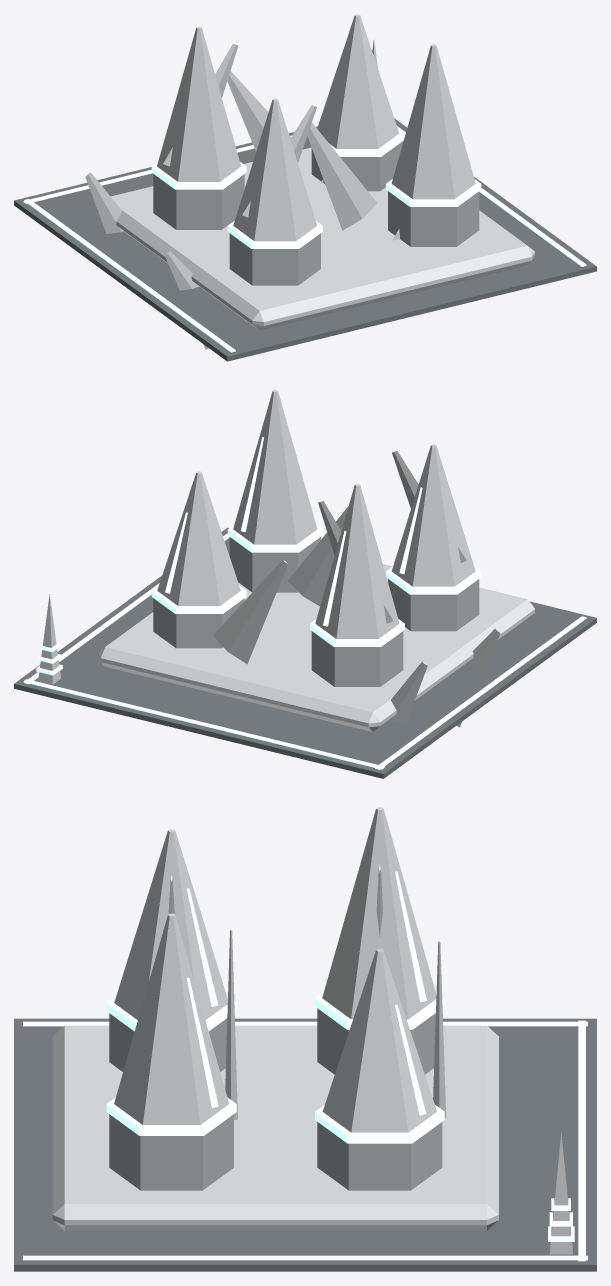
File: zone_low_4_t3.glb
3 renders of one model, top to bottom at view 1: azimuth 30°, elevation 25°; view 2: azimuth 150°, elevation 25°; view 3: azimuth 270°, elevation 25°, orthographic. The views are drawn at different scales.
Visible parts, largest first — view 1: zone_low_4_t3, detail; view 2: zone_low_4_t3, detail; view 3: zone_low_4_t3, detail.
Part boxes in pixels (box(x1,y1,x2,y2)): zone_low_4_t3: box(14, 14, 596, 361); detail: box(23, 40, 586, 352); zone_low_4_t3: box(14, 390, 596, 778); detail: box(23, 533, 586, 769); zone_low_4_t3: box(14, 807, 596, 1271); detail: box(23, 1020, 587, 1261).
Bounding box in the file's own units: 19.6 × 13.74 × 19.6.
